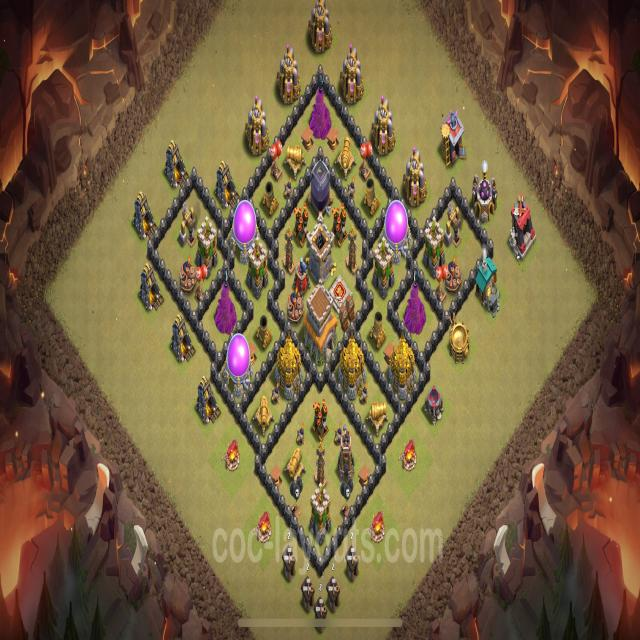air_defense: (310, 397, 330, 444), (292, 202, 310, 247), (331, 202, 348, 247)
air_sweeper: (292, 257, 310, 297)
archer_tower: (422, 216, 444, 281), (195, 214, 218, 275), (373, 238, 395, 300), (246, 238, 268, 299), (311, 482, 332, 544)
army_camp: (220, 436, 242, 476), (398, 436, 419, 476), (367, 508, 386, 547), (254, 510, 274, 544)
barracks: (439, 108, 468, 171)
builders_hut: (280, 543, 296, 583), (299, 574, 314, 615), (344, 545, 359, 584), (326, 573, 340, 613), (314, 597, 326, 630)
cannon: (283, 136, 306, 181), (334, 134, 356, 179), (283, 444, 306, 485), (366, 394, 388, 436), (252, 394, 274, 434)
clan_castle: (306, 212, 336, 284)
dark_barracks: (507, 192, 538, 266)
dark_elixir_drill: (442, 200, 464, 253), (178, 201, 197, 252)
dark_elixir_storage: (309, 156, 333, 220)
dark_spell_factory: (424, 384, 445, 426)
elixir_collector: (370, 91, 398, 158), (339, 41, 366, 108), (402, 145, 429, 210), (243, 91, 269, 157), (275, 45, 302, 107), (306, 0, 333, 60)
elixir_storage: (382, 197, 413, 264), (231, 197, 258, 265), (225, 332, 252, 398)
gold_mine: (169, 312, 197, 367), (161, 138, 189, 191), (138, 263, 164, 318), (214, 159, 238, 215), (197, 375, 221, 431), (131, 189, 155, 243)
gold_storage: (274, 332, 305, 402), (338, 333, 368, 402), (388, 334, 415, 398)
laboratory: (470, 160, 499, 227)
mortar: (260, 177, 282, 219), (359, 177, 382, 216), (368, 305, 387, 350), (253, 314, 274, 352)
spell_factory: (449, 320, 471, 364)
town_hall: (302, 279, 339, 368)
wizard_tower: (309, 81, 331, 142), (404, 280, 426, 336), (215, 280, 236, 334)
